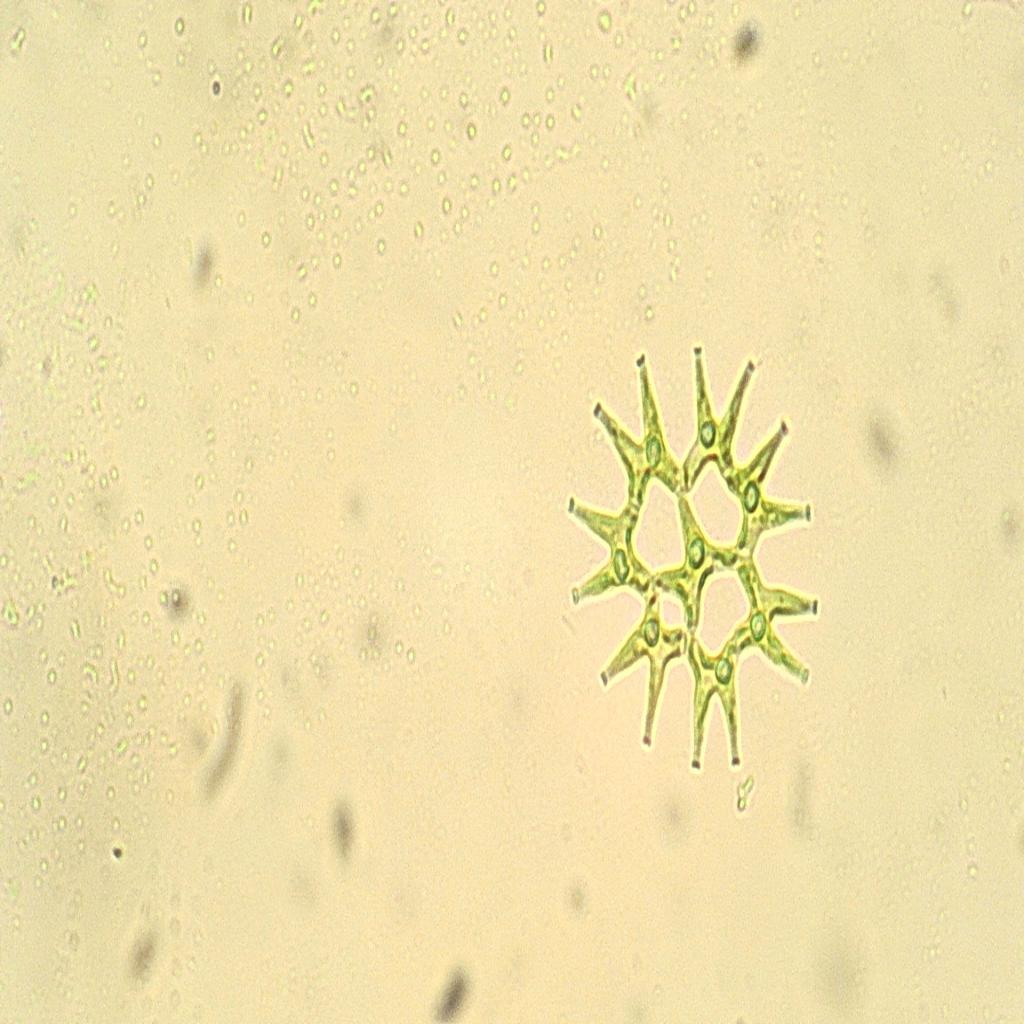Pediastrum_CTH: (555, 330, 835, 779)
